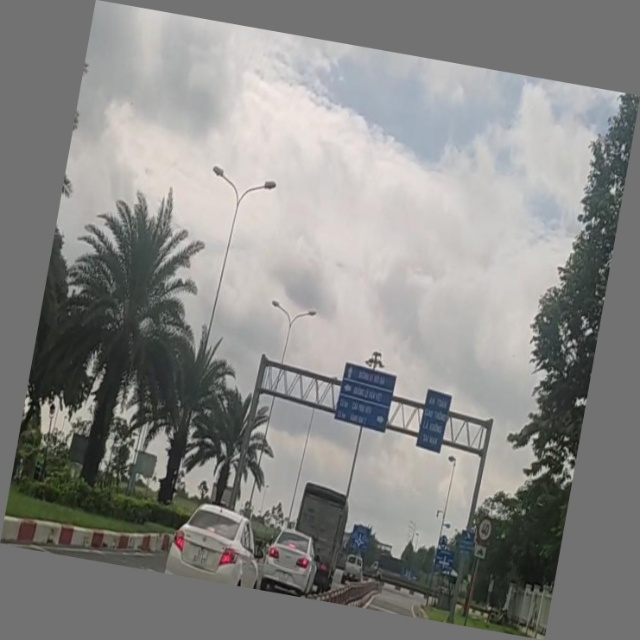P.127*40: (475, 516, 493, 543)
S.505a*Xe may: (472, 541, 487, 559)
